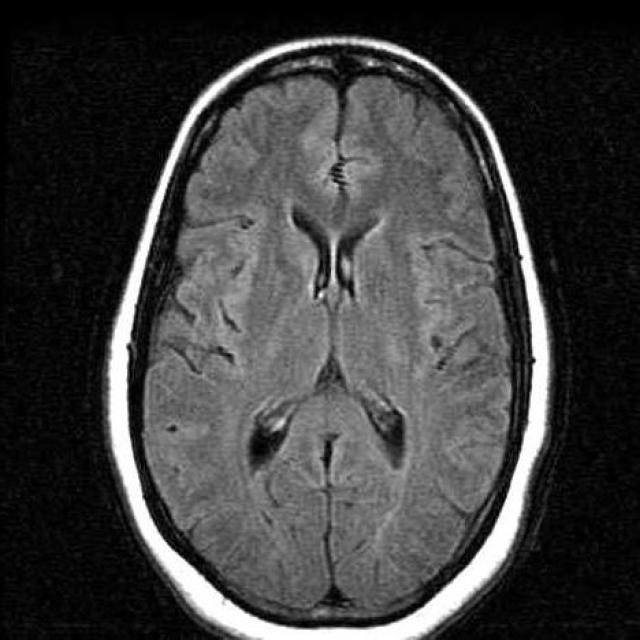no-tumor: (211, 136, 468, 505)
